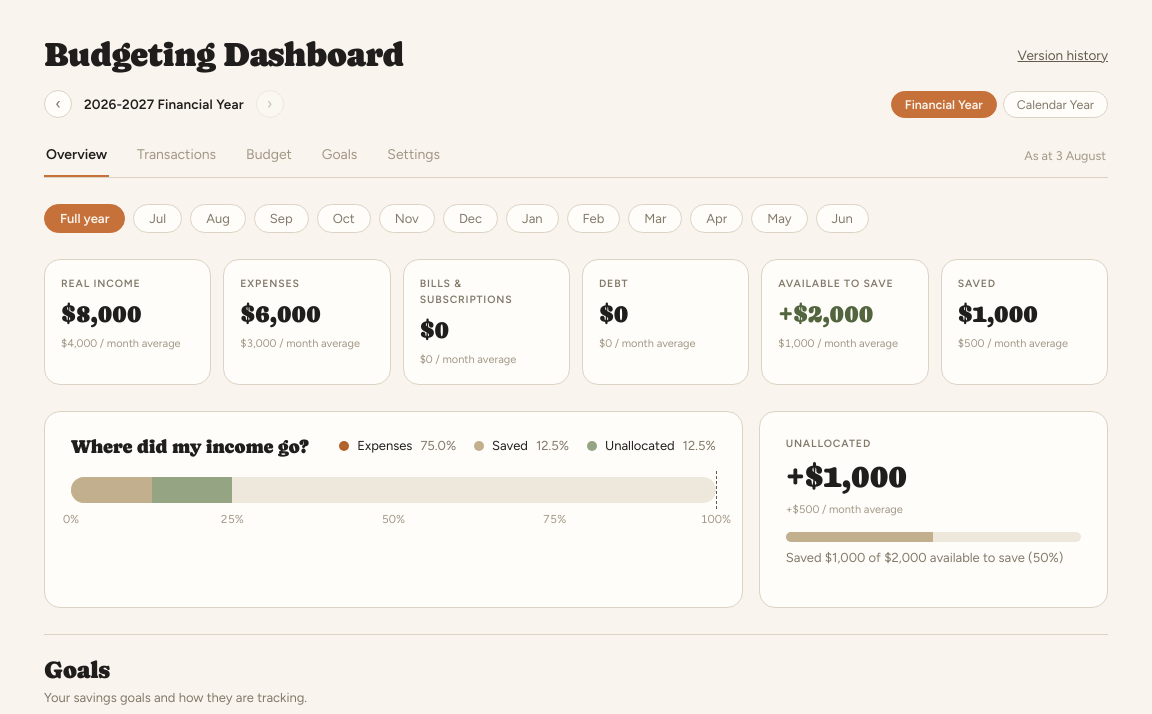
Test: App › renders the Balance check card's Unallocated beside the income allocation, with no Left to Budget
Expected: the text "$8,000" is shown, [61,299,141,328]
Expected: the text "+$1,000" is shown, [786,458,907,495]
Click the button "Aug" at (218, 218), box [190,204,246,233]
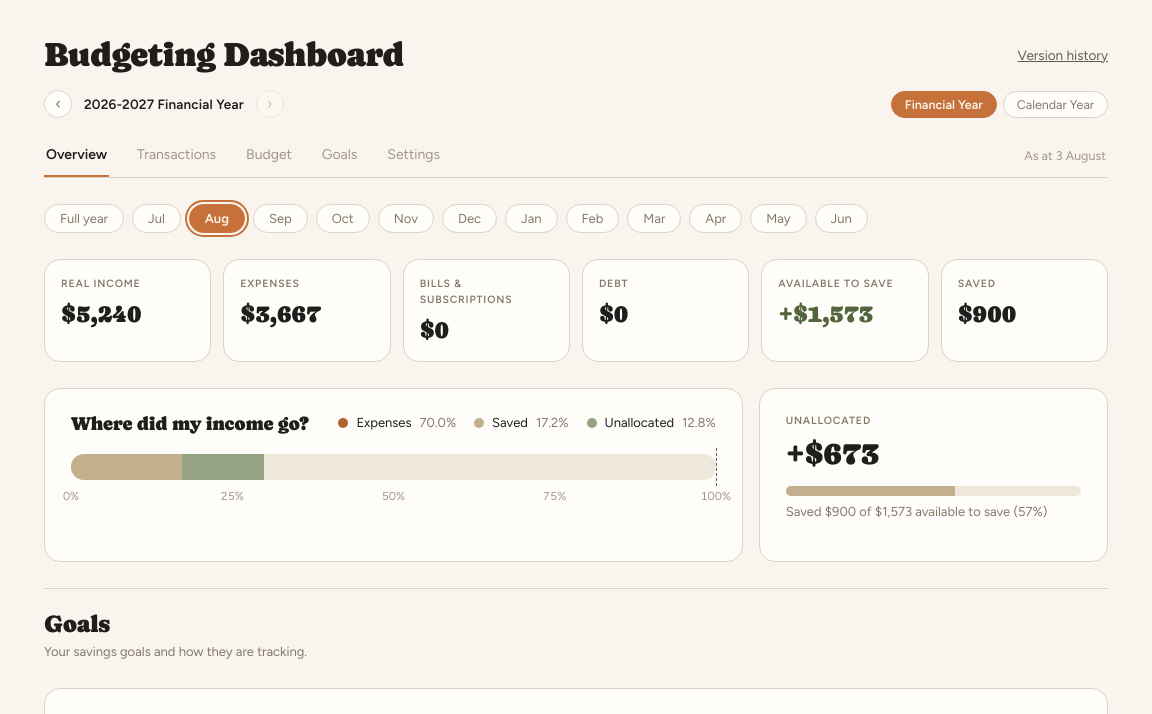
Expected: the text "$5,240" is shown, [61,299,141,328]
Expected: the text "+$673" is shown, [786,435,879,472]
Expected: the text "month average" is gone
